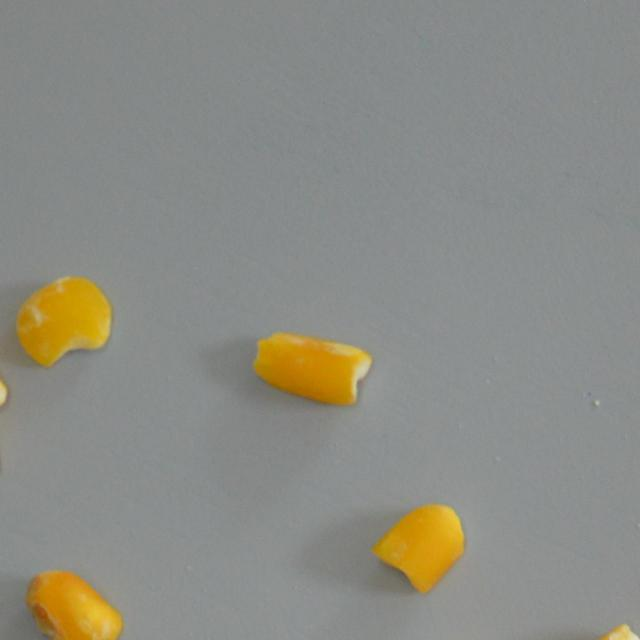dañado: (26, 568, 126, 640)
estandar: (368, 498, 468, 594)
pelicula: (12, 274, 112, 370), (250, 329, 374, 405)
punto_negro: (532, 622, 640, 640)
